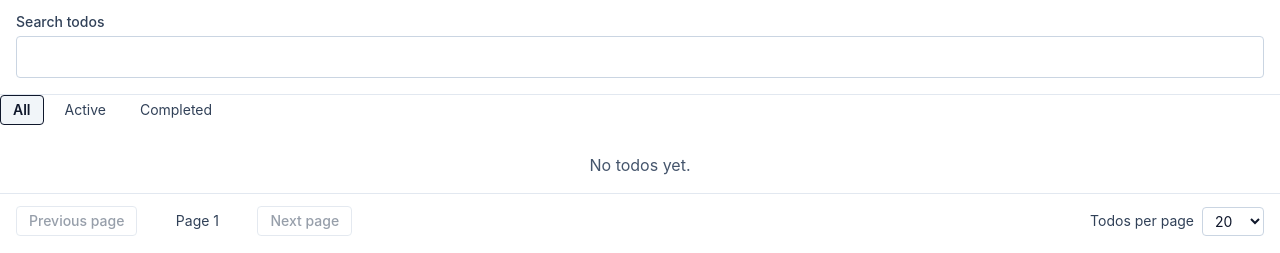
it: TodoFlows empty messages › switches the empty message when the user changes the filter
expect the text "No todos yet." is shown: met, box [590,155,690,175]
Click the link "Completed".
click(176, 110)  # box [140,101,212,118]
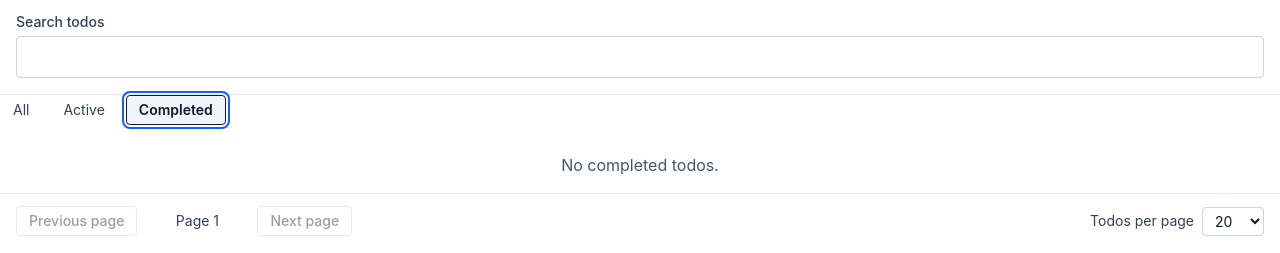
expect the text "No completed todos." is shown: met, box [561,155,719,175]
expect the text "No todos yet." is gone: met
